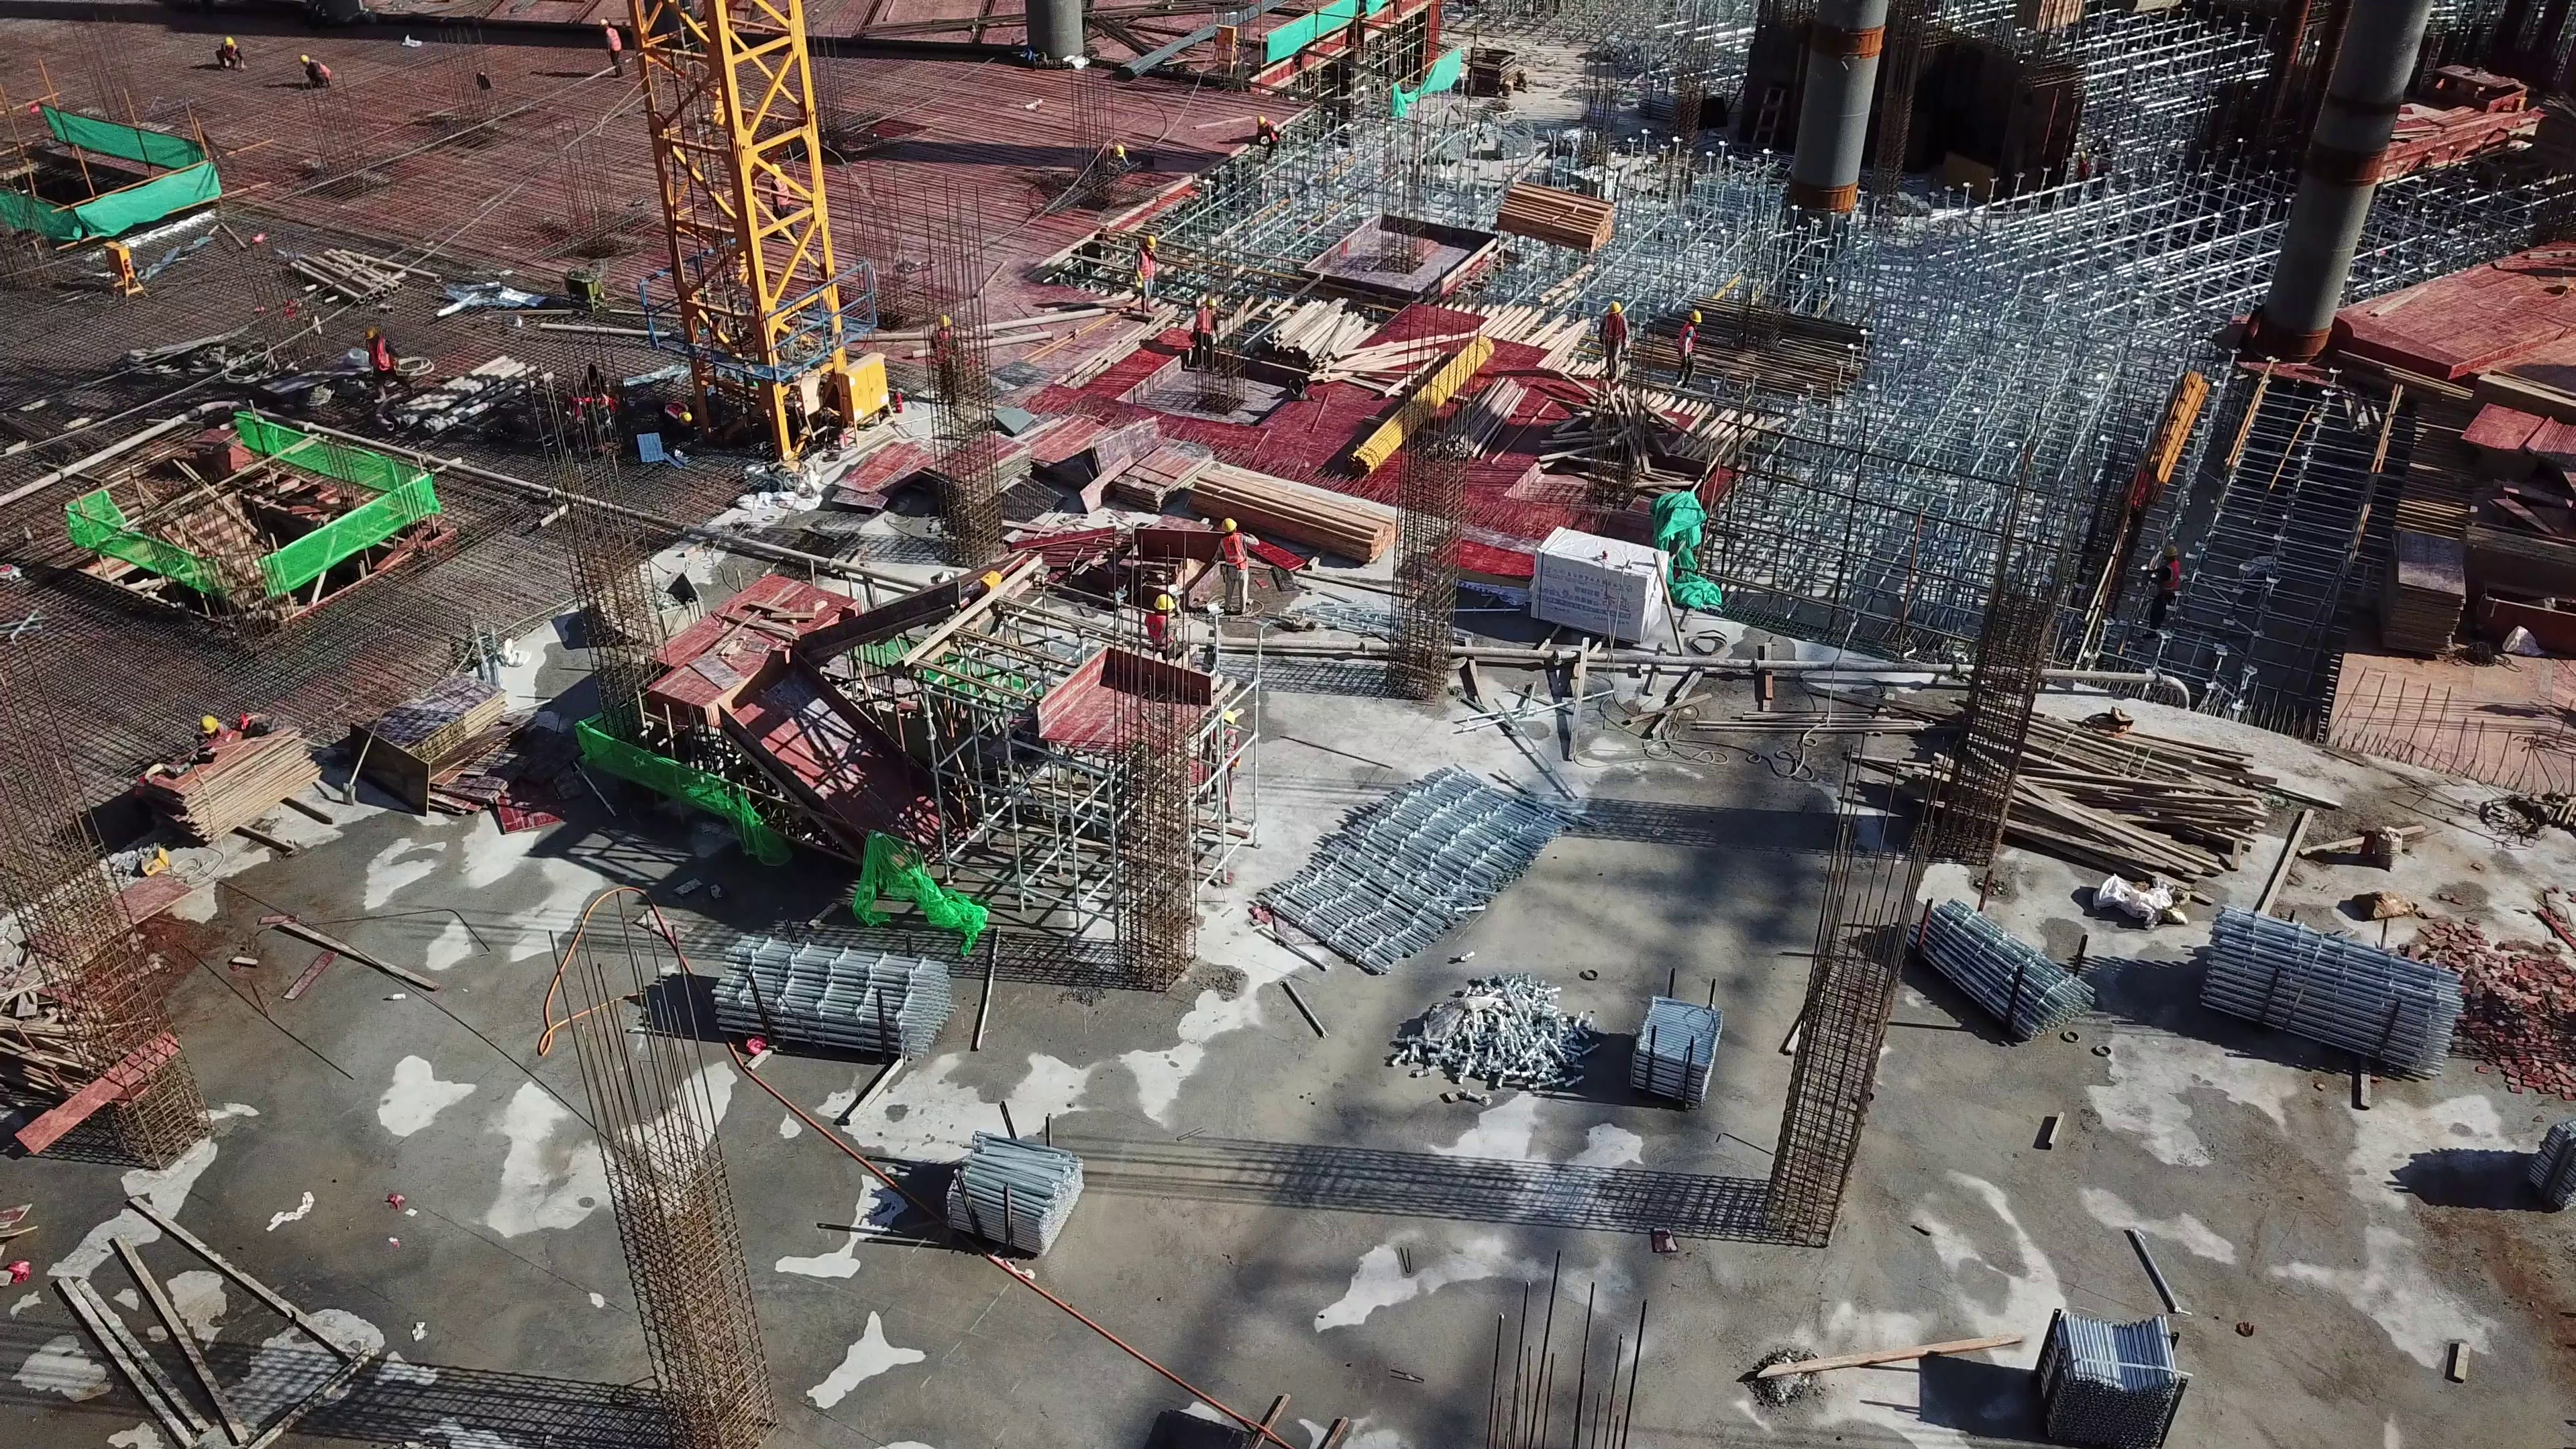board: (341, 678, 519, 820), (128, 718, 312, 850), (2383, 515, 2467, 663)
person: (1589, 290, 1642, 394), (1213, 508, 1254, 625), (362, 327, 408, 409), (916, 316, 959, 403), (1126, 225, 1158, 327), (1671, 305, 1703, 392), (1140, 584, 1181, 649)
scaffold: (1234, 759, 1569, 981), (1388, 969, 1729, 1130), (2190, 908, 2473, 1086), (700, 931, 951, 1063), (1916, 900, 2080, 1051), (936, 1118, 1067, 1252)
wood: (1875, 701, 2275, 900), (1222, 284, 1450, 394), (1195, 459, 1403, 573)
